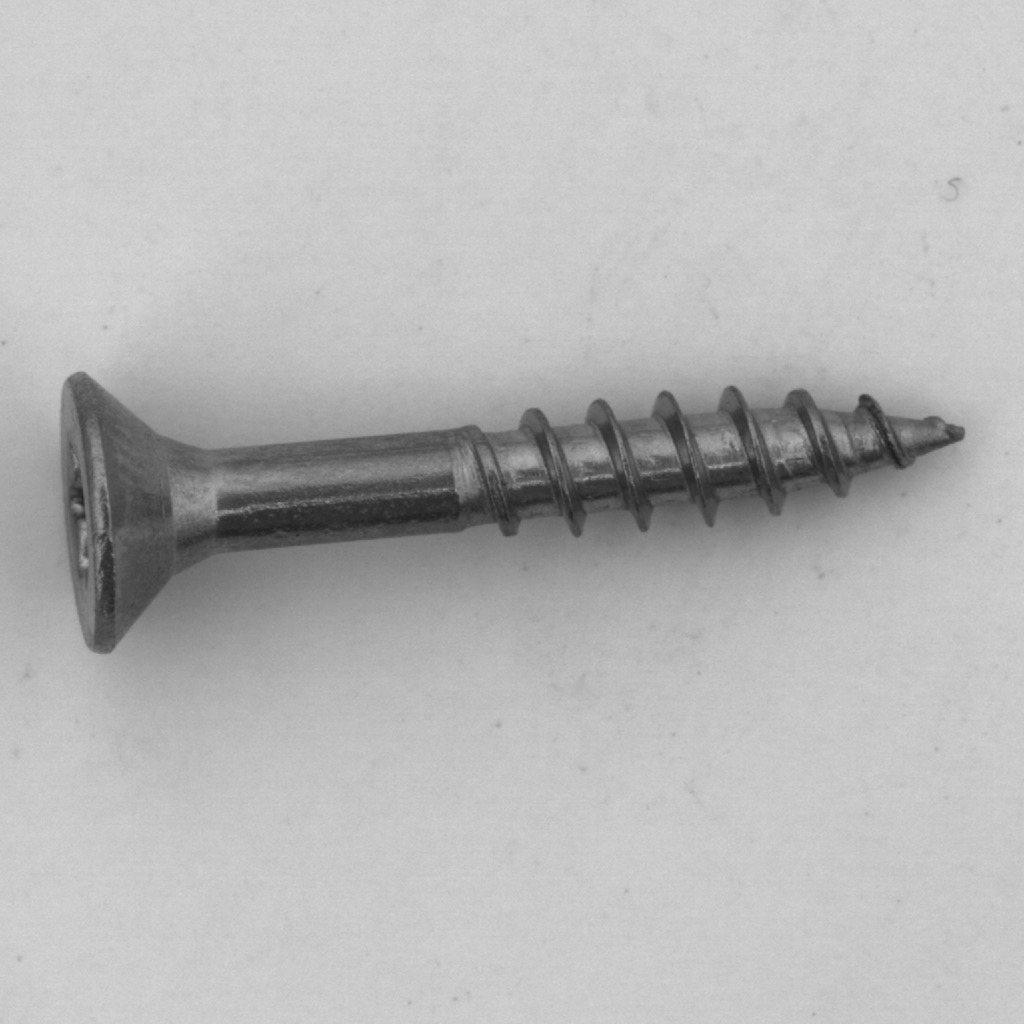good: (47, 362, 971, 671)
